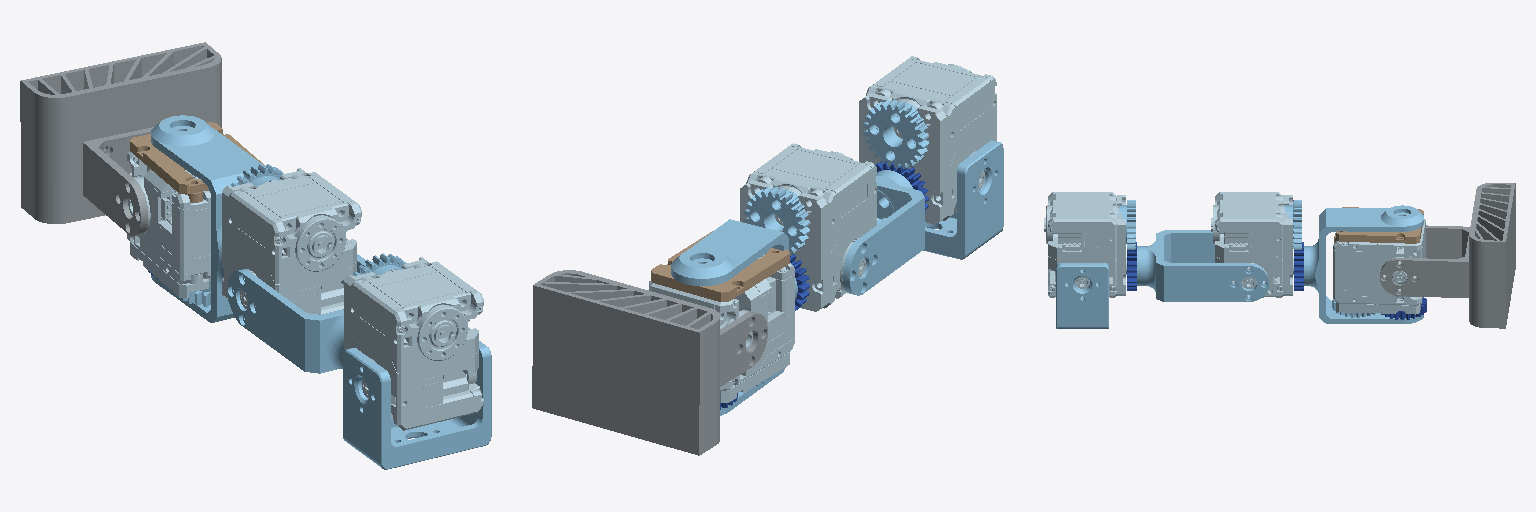
URDF robot description (left_arm_active):
<?xml version="1.0" ?>
<robot name="left_arm_active">
  <link name="sho_pitch_link">
    <visual>
      <origin xyz="0 0 0" rpy="0 -0 0"/>
      <geometry>
        <mesh filename="package:///meshes/left_sho_pitch_link_visual.stl"/>
      </geometry>
      <material name="sho_pitch_link_material">
        <color rgba="0.61568627450980395466 0.81176470588235294379 0.92941176470588227065 1.0"/>
      </material>
    </visual>
    <collision>
      <origin xyz="0 0 0" rpy="0 -0 0"/>
      <geometry>
        <mesh filename="package:///meshes/left_sho_pitch_link_collision.stl"/>
      </geometry>
    </collision>
    <inertial>
      <origin xyz="-1.025903438159899119e-18 -2.1966078074444220184e-18 0.012913250798677602602" rpy="0 0 0"/>
      <mass value="0.0085999999999999982708"/>
      <inertia ixx="1.8365636406635814379e-06" ixy="0" ixz="0" iyy="4.0110869076839152165e-06" iyz="0" izz="3.5160516450492493809e-06"/>
    </inertial>
  </link>

  <link name="2xl430_gears">
    <visual>
      <origin xyz="0 0 0" rpy="0 -0 0"/>
      <geometry>
        <mesh filename="package:///meshes/left_2xl430_gears_visual.stl"/>
      </geometry>
      <material name="2xl430_gears_material">
        <color rgba="0.75914767920569214965 0.85560384745670925444 0.90519468321360607721 1.0"/>
      </material>
    </visual>
    <collision>
      <origin xyz="0 0 0" rpy="0 -0 0"/>
      <geometry>
        <mesh filename="package:///meshes/left_2xl430_gears_collision.stl"/>
      </geometry>
    </collision>
    <inertial>
      <origin xyz="-0.011592905737981719708 -0.0024238553642539654651 -0.018551095523800652243" rpy="0 0 0"/>
      <mass value="0.11800003674524911501"/>
      <inertia ixx="2.7511021050425137297e-05" ixy="9.0043904315059743301e-07" ixz="-2.3349710123436745739e-08" iyy="3.2796197843345773501e-05" iyz="-6.5715119654595532665e-07" izz="3.577573983574187309e-05"/>
    </inertial>
  </link>

  <link name="spur_1m_24t_drive">
    <visual>
      <origin xyz="0 0 0" rpy="0 -0 0"/>
      <geometry>
        <mesh filename="package:///meshes/left_spur_1m_24t_drive_visual.stl"/>
      </geometry>
      <material name="spur_1m_24t_drive_material">
        <color rgba="0.61568627450980395466 0.81176470588235294379 0.92941176470588238168 1.0"/>
      </material>
    </visual>
    <collision>
      <origin xyz="0 0 0" rpy="0 -0 0"/>
      <geometry>
        <mesh filename="package:///meshes/left_spur_1m_24t_drive_collision.stl"/>
      </geometry>
    </collision>
    <inertial>
      <origin xyz="3.0326032611483892113e-15 -3.3912620811388928147e-16 0.0048096451474093108655" rpy="0 0 0"/>
      <mass value="0.0031999999999999997197"/>
      <inertia ixx="1.409759888701696132e-07" ixy="1.5562823114660456276e-15" ixz="-2.008449854153761406e-29" iyy="1.4097598803635996198e-07" iyz="1.6394294515261297612e-30" izz="2.4107776386988835496e-07"/>
    </inertial>
  </link>

  <joint name="left_sho_yaw_drive" type="fixed">
    <origin xyz="-0.024000000716141011575 -0.019000000152450600283 -0.019000000152443286688" rpy="1.5707963267948328312 -1.2315316060159674745e-15 7.63621479414374471e-14"/>
    <parent link="2xl430_gears"/>
    <child link="spur_1m_24t_drive"/>
    <axis xyz="0 0 1"/>
    <limit effort="1" velocity="20"/>
    <joint_properties friction="0.0"/>
  </joint>

  <link name="spur_1m_24t_driven">
    <visual>
      <origin xyz="0 0 0" rpy="0 -0 0"/>
      <geometry>
        <mesh filename="package:///meshes/left_spur_1m_24t_driven_visual.stl"/>
      </geometry>
      <material name="spur_1m_24t_driven_material">
        <color rgba="0.23137254901960788156 0.38039215686274502337 0.7058823529411765163 1.0"/>
      </material>
    </visual>
    <collision>
      <origin xyz="0 0 0" rpy="0 -0 0"/>
      <geometry>
        <mesh filename="package:///meshes/left_spur_1m_24t_driven_collision.stl"/>
      </geometry>
    </collision>
    <inertial>
      <origin xyz="-6.1597507571280238057e-18 -1.688384205958136519e-15 -0.00097237500038395777158" rpy="0 0 0"/>
      <mass value="0.0026999999999999997093"/>
      <inertia ixx="1.2202334915684085792e-07" ixy="2.7523294133209990513e-36" ixz="-7.3269571490458995975e-30" iyy="1.2202334915684064616e-07" iyz="2.3906142240509615961e-38" izz="2.3180293204341252239e-07"/>
    </inertial>
  </link>

  <link name="sho_yaw_link">
    <visual>
      <origin xyz="0 0 0" rpy="0 -0 0"/>
      <geometry>
        <mesh filename="package:///meshes/left_sho_yaw_link_visual.stl"/>
      </geometry>
      <material name="sho_yaw_link_material">
        <color rgba="0.61568627450980395466 0.81176470588235294379 0.92941176470588238168 1.0"/>
      </material>
    </visual>
    <collision>
      <origin xyz="0 0 0" rpy="0 -0 0"/>
      <geometry>
        <mesh filename="package:///meshes/left_sho_yaw_link_collision.stl"/>
      </geometry>
    </collision>
    <inertial>
      <origin xyz="-1.3035750898319770195e-18 2.6069328434161451193e-18 -0.024649285094360082193" rpy="0 0 0"/>
      <mass value="0.014500000000000007674"/>
      <inertia ixx="9.2365904614004473434e-06" ixy="3.5862833440690462015e-13" ixz="9.1428418910883641815e-28" iyy="5.8163826335078791714e-06" iyz="3.2690928711022967479e-35" izz="4.5074356741562122031e-06"/>
    </inertial>
  </link>

  <link name="2xl430_gears_2">
    <visual>
      <origin xyz="0 0 0" rpy="0 -0 0"/>
      <geometry>
        <mesh filename="package:///meshes/left_2xl430_gears_2_visual.stl"/>
      </geometry>
      <material name="2xl430_gears_2_material">
        <color rgba="0.75914767920569214965 0.85560384745670925444 0.90519468321360607721 1.0"/>
      </material>
    </visual>
    <collision>
      <origin xyz="0 0 0" rpy="0 -0 0"/>
      <geometry>
        <mesh filename="package:///meshes/left_2xl430_gears_2_collision.stl"/>
      </geometry>
    </collision>
    <inertial>
      <origin xyz="-0.011592905737977830458 -0.0024238553642531319304 -0.018551095523810002402" rpy="0 0 0"/>
      <mass value="0.11800003674524911501"/>
      <inertia ixx="2.7511021050425449005e-05" ixy="9.0043904315422929852e-07" ixz="-2.3349710124855247993e-08" iyy="3.2796197843347501448e-05" iyz="-6.5715119654968301277e-07" izz="3.577573983574221868e-05"/>
    </inertial>
  </link>

  <link name="spur_1m_24t_drive_2">
    <visual>
      <origin xyz="0 0 0" rpy="0 -0 0"/>
      <geometry>
        <mesh filename="package:///meshes/left_spur_1m_24t_drive_2_visual.stl"/>
      </geometry>
      <material name="spur_1m_24t_drive_2_material">
        <color rgba="0.61568627450980395466 0.81176470588235294379 0.92941176470588238168 1.0"/>
      </material>
    </visual>
    <collision>
      <origin xyz="0 0 0" rpy="0 -0 0"/>
      <geometry>
        <mesh filename="package:///meshes/left_spur_1m_24t_drive_2_collision.stl"/>
      </geometry>
    </collision>
    <inertial>
      <origin xyz="3.0326032635612721456e-15 -3.3912620813973872492e-16 0.0048096451474093134676" rpy="0 0 0"/>
      <mass value="0.0031999999999999997197"/>
      <inertia ixx="1.4097598887016953379e-07" ixy="1.5562823114943523235e-15" ixz="-4.6297932308656121067e-28" iyy="1.4097598803635996198e-07" iyz="2.2330386657934582872e-29" izz="2.4107776386988835496e-07"/>
    </inertial>
  </link>

  <joint name="left_elbow_yaw_drive" type="fixed">
    <origin xyz="-0.024000000716137552537 -0.019000000152447502066 -0.019000000152459547986" rpy="1.5707963267950562081 -2.470655165606289817e-13 -1.8325179468455831644e-13"/>
    <parent link="2xl430_gears_2"/>
    <child link="spur_1m_24t_drive_2"/>
    <axis xyz="0 0 1"/>
    <limit effort="1" velocity="20"/>
    <joint_properties friction="0.0"/>
  </joint>

  <link name="spur_1m_24t_driven_2">
    <visual>
      <origin xyz="0 0 0" rpy="0 -0 0"/>
      <geometry>
        <mesh filename="package:///meshes/left_spur_1m_24t_driven_2_visual.stl"/>
      </geometry>
      <material name="spur_1m_24t_driven_2_material">
        <color rgba="0.23137254901960788156 0.38039215686274502337 0.7058823529411765163 1.0"/>
      </material>
    </visual>
    <collision>
      <origin xyz="0 0 0" rpy="0 -0 0"/>
      <geometry>
        <mesh filename="package:///meshes/left_spur_1m_24t_driven_2_collision.stl"/>
      </geometry>
    </collision>
    <inertial>
      <origin xyz="-2.6919984763826045554e-18 -1.6851535667301797593e-15 -0.00097237500038395083268" rpy="0 0 0"/>
      <mass value="0.0026999999999999997093"/>
      <inertia ixx="1.2202334915684080498e-07" ixy="-1.4158378337979601932e-26" ixz="-1.6652141981526740106e-31" iyy="1.2202334915684064616e-07" iyz="-6.1216890803012590929e-29" izz="2.3180293204341252239e-07"/>
    </inertial>
  </link>

  <link name="elb_yaw_link">
    <visual>
      <origin xyz="0 0 0" rpy="0 -0 0"/>
      <geometry>
        <mesh filename="package:///meshes/left_elb_yaw_link_visual.stl"/>
      </geometry>
      <material name="elb_yaw_link_material">
        <color rgba="0.61568627450980395466 0.81176470588235294379 0.92941176470588227065 1.0"/>
      </material>
    </visual>
    <collision>
      <origin xyz="0 0 0" rpy="0 -0 0"/>
      <geometry>
        <mesh filename="package:///meshes/left_elb_yaw_link_collision.stl"/>
      </geometry>
    </collision>
    <inertial>
      <origin xyz="5.3127688027775035015e-08 0.0019833638641961613865 -0.023416643551549952418" rpy="0 0 0"/>
      <mass value="0.017500000000000005135"/>
      <inertia ixx="1.4134344903109199776e-05" ixy="1.6945783922010719072e-12" ixz="-1.1286398721833085835e-11" iyy="6.6435900776211340404e-06" iyz="1.0545227077253051227e-06" izz="8.9925290757998993713e-06"/>
    </inertial>
  </link>

  <link name="spur_1m_24t_driven_3">
    <visual>
      <origin xyz="0 0 0" rpy="0 -0 0"/>
      <geometry>
        <mesh filename="package:///meshes/left_spur_1m_24t_driven_3_visual.stl"/>
      </geometry>
      <material name="spur_1m_24t_driven_3_material">
        <color rgba="0.23137254901960788156 0.38039215686274502337 0.7058823529411765163 1.0"/>
      </material>
    </visual>
    <collision>
      <origin xyz="0 0 0" rpy="0 -0 0"/>
      <geometry>
        <mesh filename="package:///meshes/left_spur_1m_24t_driven_3_collision.stl"/>
      </geometry>
    </collision>
    <inertial>
      <origin xyz="-2.6903273536523174272e-18 -1.6883828105019308173e-15 -0.0025723750003839550293" rpy="0 0 0"/>
      <mass value="0.0026999999999999997093"/>
      <inertia ixx="1.2202334915684080498e-07" ixy="-6.8849887603967411276e-32" ixz="-2.6410010759070278003e-28" iyy="1.2202334915684059322e-07" iyz="2.0286938869726816775e-26" izz="2.3180293204341252239e-07"/>
    </inertial>
  </link>

  <link name="2xl430_gears_3">
    <visual>
      <origin xyz="0 0 0" rpy="0 -0 0"/>
      <geometry>
        <mesh filename="package:///meshes/left_2xl430_gears_3_visual.stl"/>
      </geometry>
      <material name="2xl430_gears_3_material">
        <color rgba="0.75914767920569214965 0.85560384745670925444 0.90519468321360607721 1.0"/>
      </material>
    </visual>
    <collision>
      <origin xyz="0 0 0" rpy="0 -0 0"/>
      <geometry>
        <mesh filename="package:///meshes/left_2xl430_gears_3_collision.stl"/>
      </geometry>
    </collision>
    <inertial>
      <origin xyz="0.00044890447620203518522 0.011592905379898215887 -0.024576144788197726992" rpy="0 0 0"/>
      <mass value="0.11800003674524911501"/>
      <inertia ixx="3.5775739835741527501e-05" ixy="2.3349710123577267181e-08" ixz="6.571511965489162362e-07" iyy="2.7511021050426404458e-05" iyz="9.0043904315389906155e-07" izz="3.2796197843345726067e-05"/>
    </inertial>
  </link>

  <link name="spur_1m_24t_drive_3">
    <visual>
      <origin xyz="0 0 0" rpy="0 -0 0"/>
      <geometry>
        <mesh filename="package:///meshes/left_spur_1m_24t_drive_3_visual.stl"/>
      </geometry>
      <material name="spur_1m_24t_drive_3_material">
        <color rgba="0.61568627450980395466 0.81176470588235294379 0.92941176470588238168 1.0"/>
      </material>
    </visual>
    <collision>
      <origin xyz="0 0 0" rpy="0 -0 0"/>
      <geometry>
        <mesh filename="package:///meshes/left_spur_1m_24t_drive_3_collision.stl"/>
      </geometry>
    </collision>
    <inertial>
      <origin xyz="3.060358827889013058e-15 -3.4111303900242703925e-16 0.0048096451474093065287" rpy="0 0 0"/>
      <mass value="0.0031999999999999997197"/>
      <inertia ixx="1.4097598887016953379e-07" ixy="1.5562823135089737022e-15" ixz="-1.1512514101231046835e-27" iyy="1.4097598803635998845e-07" iyz="2.2291261639049831572e-27" izz="2.4107776386988835496e-07"/>
    </inertial>
  </link>

  <joint name="left_wrist_pitch_drive" type="fixed">
    <origin xyz="-1.524411534503666843e-10 0.024000000358058687366 -0.0080000000000068870187" rpy="9.3688325669630329923e-15 -2.4754144734777612982e-13 -1.570796326794971387"/>
    <parent link="2xl430_gears_3"/>
    <child link="spur_1m_24t_drive_3"/>
    <axis xyz="0 0 1"/>
    <limit effort="1" velocity="20"/>
    <joint_properties friction="0.0"/>
  </joint>

  <link name="hand">
    <visual>
      <origin xyz="0 0 0" rpy="0 -0 0"/>
      <geometry>
        <mesh filename="package:///meshes/left_hand_visual.stl"/>
      </geometry>
      <material name="hand_material">
        <color rgba="0.6414991312980887761 0.67624720774385704836 0.69709605361131787848 1.0"/>
      </material>
    </visual>
    <collision>
      <origin xyz="0 0 0" rpy="0 -0 0"/>
      <geometry>
        <mesh filename="package:///meshes/left_hand_collision.stl"/>
      </geometry>
    </collision>
    <inertial>
      <origin xyz="-0.0037132560743682236672 0.042135580180293723263 -0.019513129422372363364" rpy="0 0 0"/>
      <mass value="0.039500000000000000389"/>
      <inertia ixx="2.4655505305536037772e-05" ixy="6.2292690516536515991e-07" ixz="-1.3905202790257463006e-08" iyy="2.5499495709674586328e-05" iyz="4.0482284361505544926e-08" izz="1.3476712281039084689e-05"/>
    </inertial>
  </link>

  <joint name="left_wrist_roll" type="revolute">
    <origin xyz="0.019000000000007864764 -3.580815921555569048e-10 -0.027000000152448074692" rpy="-3.141592653589793116 -1.5707963267945825869 0"/>
    <parent link="2xl430_gears_3"/>
    <child link="hand"/>
    <axis xyz="0 0 1"/>
    <limit effort="1" velocity="20" lower="-1.9198621771937625091" upper="1.3962634015954635824"/>
    <joint_properties friction="0.0"/>
  </joint>

  <link name="wrist_bearing_plate">
    <visual>
      <origin xyz="0 0 0" rpy="0 -0 0"/>
      <geometry>
        <mesh filename="package:///meshes/left_wrist_bearing_plate_visual.stl"/>
      </geometry>
      <material name="wrist_bearing_plate_material">
        <color rgba="0.71932243125689054875 0.63128434304969727187 0.52422389360984933404 1.0"/>
      </material>
    </visual>
    <collision>
      <origin xyz="0 0 0" rpy="0 -0 0"/>
      <geometry>
        <mesh filename="package:///meshes/left_wrist_bearing_plate_collision.stl"/>
      </geometry>
    </collision>
    <inertial>
      <origin xyz="-0.007583558312149987074 -0.015499999999999972133 -0.0018386323705903283732" rpy="0 0 0"/>
      <mass value="0.0049000367468305557062"/>
      <inertia ixx="4.9707430109150107956e-07" ixy="5.8442651625198521782e-23" ixz="1.8100904820814022013e-08" iyy="7.1268523603538521295e-07" iyz="1.0938305468180491225e-23" izz="1.1919657811600107117e-06"/>
    </inertial>
  </link>

  <joint name="left_wrist_pitch_fixed" type="fixed">
    <origin xyz="0.015500000000007483486 -1.7374990335383699858e-14 -0.044999999999998908928" rpy="4.0578672398099256913e-14 -2.8213543071750907979e-13 -1.570796326794906328"/>
    <parent link="2xl430_gears_3"/>
    <child link="wrist_bearing_plate"/>
    <axis xyz="0 0 1"/>
    <limit effort="1" velocity="20"/>
    <joint_properties friction="0.0"/>
  </joint>

  <joint name="left_wrist_pitch" type="revolute">
    <origin xyz="0 -1.3383120566617945357e-18 -0.0015999999999999961735" rpy="-2.8942931320395828399e-14 -2.5018666387969439484e-14 -1.5029360097675703578"/>
    <parent link="spur_1m_24t_driven_3"/>
    <child link="2xl430_gears_3"/>
    <axis xyz="0 0 1"/>
    <limit effort="1" velocity="20" lower="-1.3962634015954635824" upper="1.9198621771937625091"/>
    <joint_properties friction="0.0"/>
  </joint>

  <joint name="left_wrist_roll_fixed" type="fixed">
    <origin xyz="-1.6940658945086006781e-21 -0.025299999999999999573 -0.052000000000000032307" rpy="1.5707963267949238695 -1.5707963267948696906 0"/>
    <parent link="elb_yaw_link"/>
    <child link="spur_1m_24t_driven_3"/>
    <axis xyz="0 0 1"/>
    <limit effort="1" velocity="20"/>
    <joint_properties friction="0.0"/>
  </joint>

  <joint name="left_elbow_yaw_fixed" type="fixed">
    <origin xyz="0 3.4694469519536141888e-18 0.0015999999999999903189" rpy="3.141592653589793116 1.7371588856516367895e-15 -7.1482908950121119081e-21"/>
    <parent link="spur_1m_24t_driven_2"/>
    <child link="elb_yaw_link"/>
    <axis xyz="0 0 1"/>
    <limit effort="1" velocity="20"/>
    <joint_properties friction="0.0"/>
  </joint>

  <joint name="left_elbow_yaw" type="revolute">
    <origin xyz="-3.5806394654835926872e-10 -0.027000000152452907631 -0.019000000000006612294" rpy="-1.5707963271033555941 1.5702961013580483129 3.1415926532772431301"/>
    <parent link="2xl430_gears_2"/>
    <child link="spur_1m_24t_driven_2"/>
    <axis xyz="0 0 1"/>
    <limit effort="1" velocity="20" lower="-2.6179938779914944114" upper="2.6179938779914944114"/>
    <joint_properties friction="0.0"/>
  </joint>

  <joint name="left_elbow_roll" type="revolute">
    <origin xyz="0 -0.019000000000000002998 -0.05900000000000000383" rpy="1.570796326794896558 -9.1511985033140475399e-06 9.9917328930995459489e-16"/>
    <parent link="sho_yaw_link"/>
    <child link="2xl430_gears_2"/>
    <axis xyz="0 0 1"/>
    <limit effort="1" velocity="20" lower="-1.9198621771937625091" upper="2.4434609527920612138"/>
    <joint_properties friction="0.0"/>
  </joint>

  <joint name="left_sho_yaw_fixed" type="fixed">
    <origin xyz="-6.9388939039072283776e-18 0 0.0015999999999999972577" rpy="-3.1415926535897917837 7.771562309448331808e-16 7.7715611725339221982e-16"/>
    <parent link="spur_1m_24t_driven"/>
    <child link="sho_yaw_link"/>
    <axis xyz="0 0 1"/>
    <limit effort="1" velocity="20"/>
    <joint_properties friction="0.0"/>
  </joint>

  <joint name="left_sho_yaw" type="revolute">
    <origin xyz="-3.5807029216683439188e-10 -0.027000000152450923108 -0.018999999999999881567" rpy="1.5707963267948492625 7.0146039834906763197e-14 9.489446512533569504e-14"/>
    <parent link="2xl430_gears"/>
    <child link="spur_1m_24t_driven"/>
    <axis xyz="0 0 1"/>
    <limit effort="1" velocity="20" lower="-2.6179938779914944114" upper="2.6179938779914944114"/>
    <joint_properties friction="0.0"/>
  </joint>

  <joint name="left_sho_roll" type="revolute">
    <origin xyz="-0.018999999999999999528 1.0056362270253492431e-17 0.027000000000000003164" rpy="3.141592653589793116 1.5707956970996790336 0"/>
    <parent link="sho_pitch_link"/>
    <child link="2xl430_gears"/>
    <axis xyz="0 0 1"/>
    <limit effort="1" velocity="20" lower="-1.570796326794896558" upper="0.34906585039886589561"/>
    <joint_properties friction="0.0"/>
  </joint>


</robot>

--- Facts derived from the render (not from the file) ---
Views: 3 orthographic renders of the robot side by side, from view 1: azimuth 30°, elevation 25°; view 2: azimuth 150°, elevation 25°; view 3: azimuth 270°, elevation 25°.
Robot: left_arm_active — 14 links, 13 joints (6 revolute, 7 fixed); root link sho_pitch_link; default pose: all joints at 0.
Visible links, largest first — view 1: hand, 2xl430_gears, 2xl430_gears_2, sho_pitch_link, 2xl430_gears_3, sho_yaw_link, elb_yaw_link, wrist_bearing_plate, spur_1m_24t_drive, spur_1m_24t_drive_2; view 2: hand, 2xl430_gears, 2xl430_gears_2, sho_yaw_link, 2xl430_gears_3, sho_pitch_link, elb_yaw_link, spur_1m_24t_drive, wrist_bearing_plate, spur_1m_24t_drive_2, spur_1m_24t_driven, spur_1m_24t_driven_2; view 3: hand, sho_yaw_link, 2xl430_gears_2, 2xl430_gears, 2xl430_gears_3, elb_yaw_link, sho_pitch_link, wrist_bearing_plate, spur_1m_24t_drive, spur_1m_24t_drive_2.
Boxes of the visible links, x1,y1,x2,y2 form: hand: (20,42,221,235); 2xl430_gears: (344,257,483,430); 2xl430_gears_2: (222,168,361,314); sho_pitch_link: (343,341,491,469); 2xl430_gears_3: (127,151,210,297); sho_yaw_link: (228,254,365,373); elb_yaw_link: (151,115,265,322); wrist_bearing_plate: (130,122,264,202); spur_1m_24t_drive: (353,253,406,275); spur_1m_24t_drive_2: (231,164,283,186); hand: (532,270,767,455); 2xl430_gears: (859,56,996,224); 2xl430_gears_2: (740,143,876,311); sho_yaw_link: (842,170,924,295); 2xl430_gears_3: (649,254,794,402); sho_pitch_link: (923,140,1003,259); elb_yaw_link: (671,219,797,415); spur_1m_24t_drive: (863,99,929,168); wrist_bearing_plate: (651,231,789,301); spur_1m_24t_drive_2: (744,187,810,253); spur_1m_24t_driven: (875,161,928,213); spur_1m_24t_driven_2: (790,254,809,310); hand: (1380,183,1515,328); sho_yaw_link: (1137,230,1268,301); 2xl430_gears_2: (1211,192,1293,297); 2xl430_gears: (1044,192,1126,297); 2xl430_gears_3: (1333,219,1425,314); elb_yaw_link: (1304,205,1423,323); sho_pitch_link: (1056,263,1108,328); wrist_bearing_plate: (1334,207,1423,243); spur_1m_24t_drive: (1119,200,1135,249); spur_1m_24t_drive_2: (1285,200,1301,249).
Bounding box of the posed robot: 0.0746 × 0.2476 × 0.0652 m (x, y, z).
14 mesh visuals loaded from 14 distinct referenced files (14 binary STL).